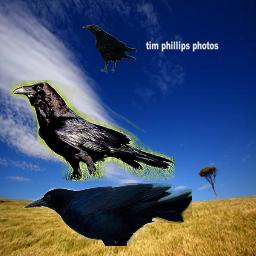Crow: (10, 80, 175, 181), (23, 183, 192, 246), (82, 24, 137, 74)
